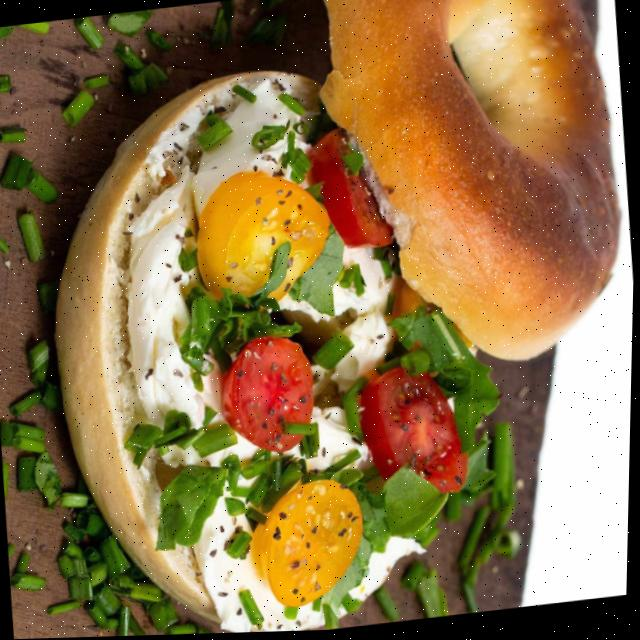Bagel: (320, 0, 620, 362)
